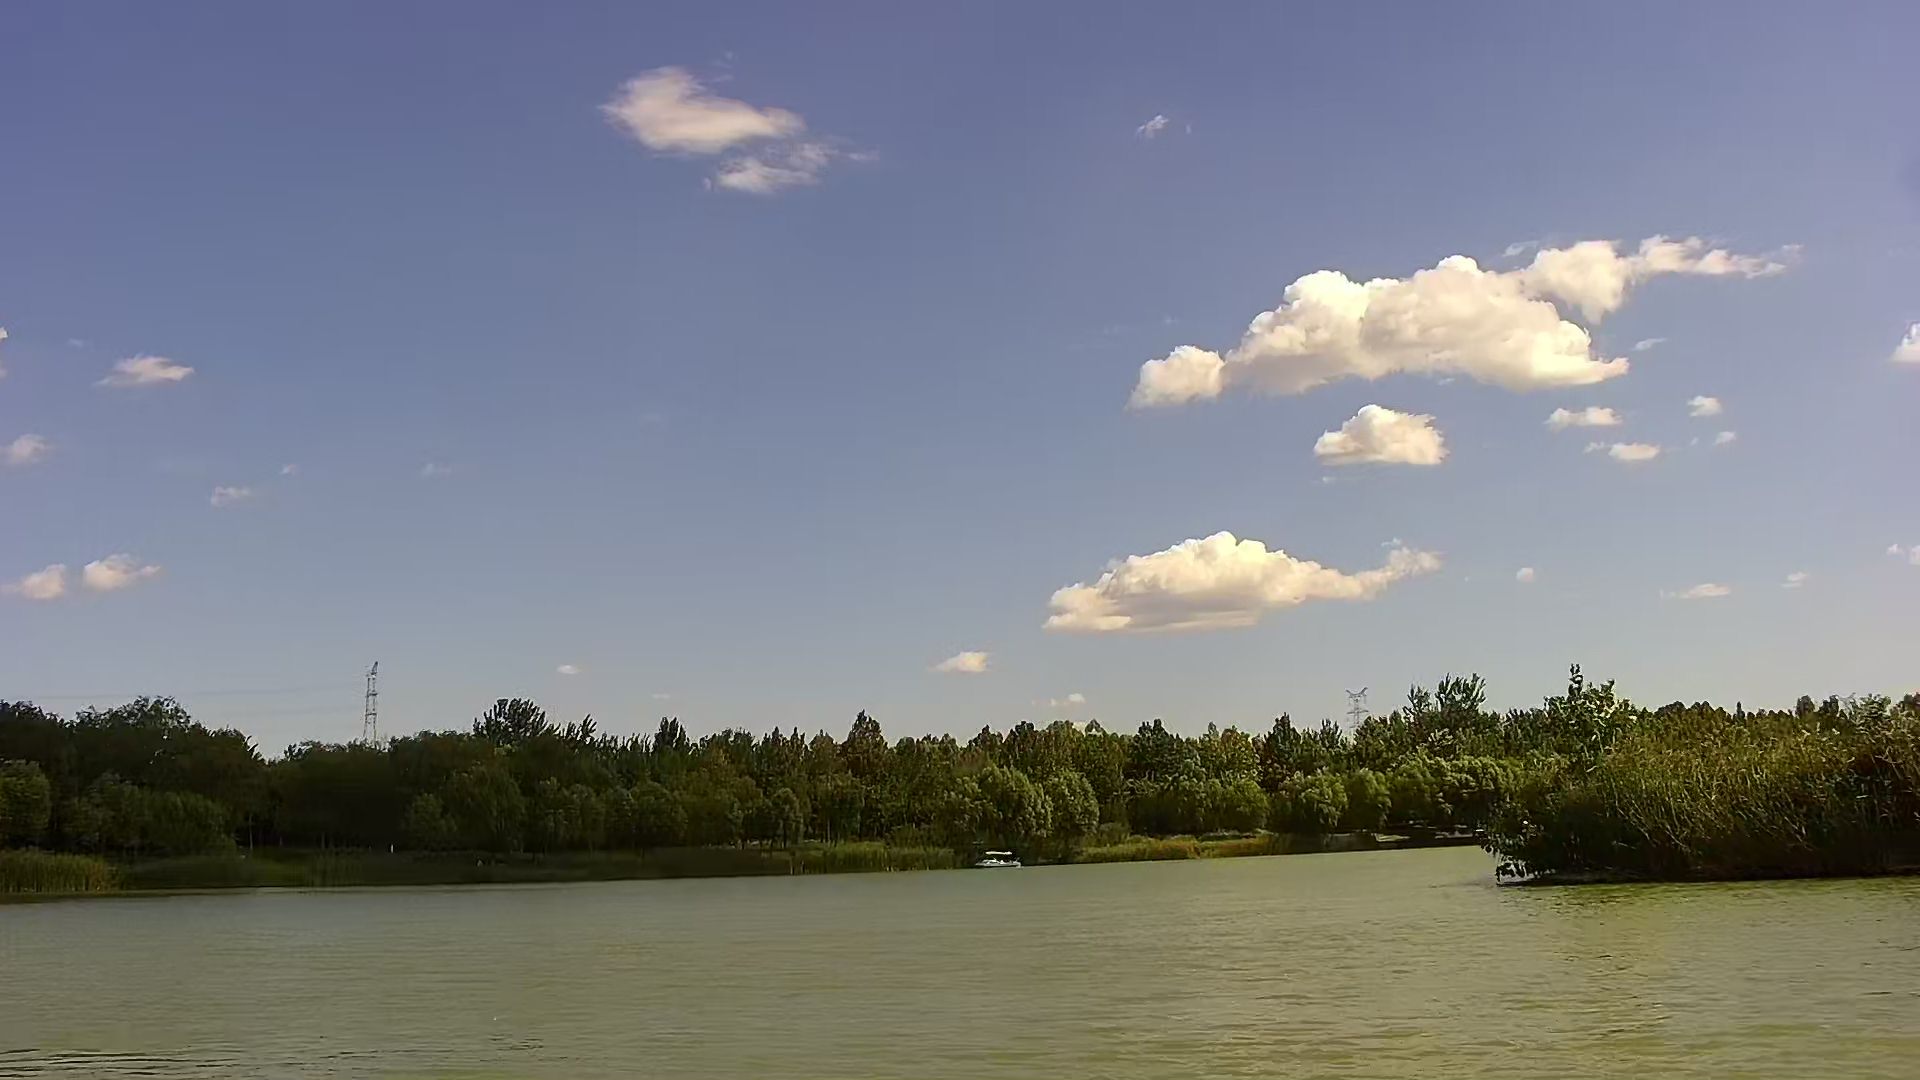boat: (976, 848, 1021, 869)
